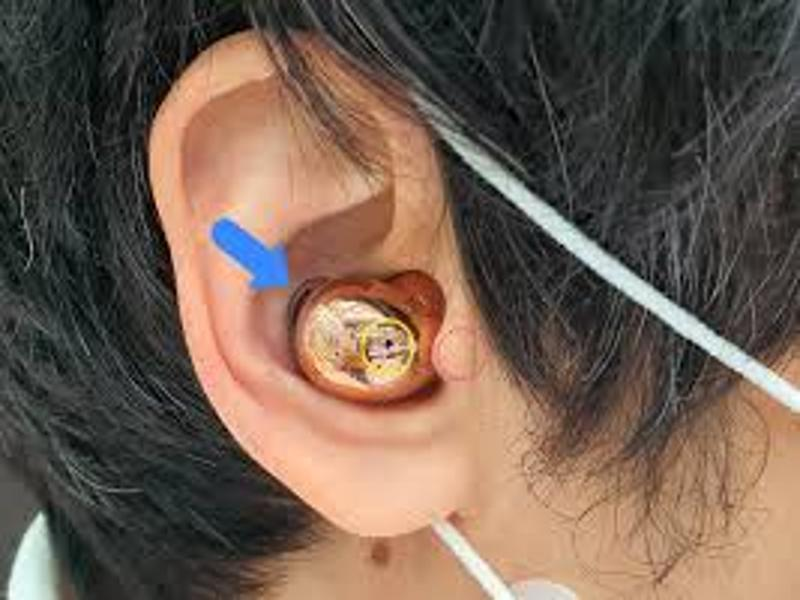headphone: (287, 270, 453, 405)
